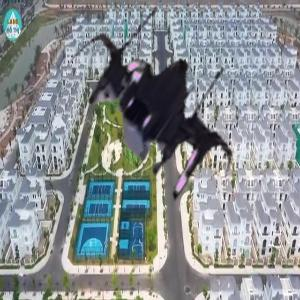drone: (50, 5, 262, 217)
